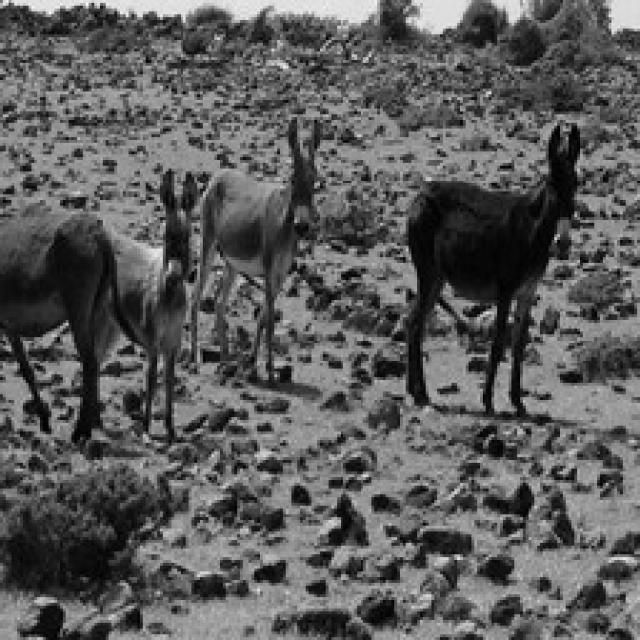Donkey: (400, 120, 580, 414), (188, 114, 323, 383), (0, 206, 120, 443), (103, 166, 197, 440)
